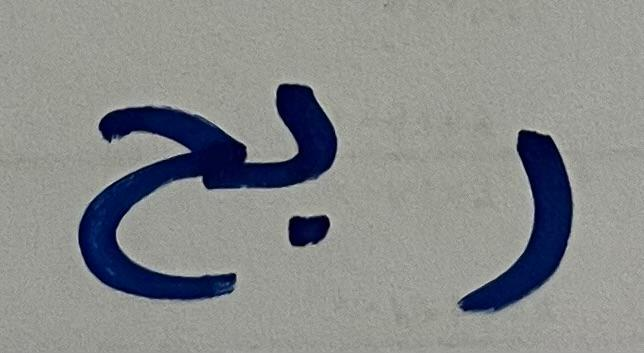beh: (252, 56, 407, 300)
hah: (57, 47, 249, 335)
reh: (421, 78, 610, 347)
